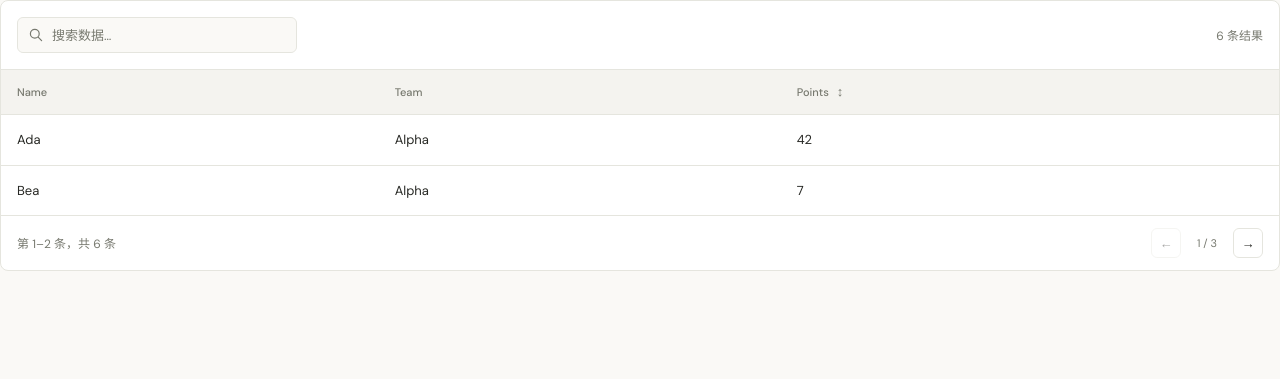
Test: DataTable interactions › offers a working clear action after an empty search and restores the first page
The width and height of the screenshot is (1280, 379).
Click the button named "下一页": (1248, 243) 1233,228 -> 1263,258
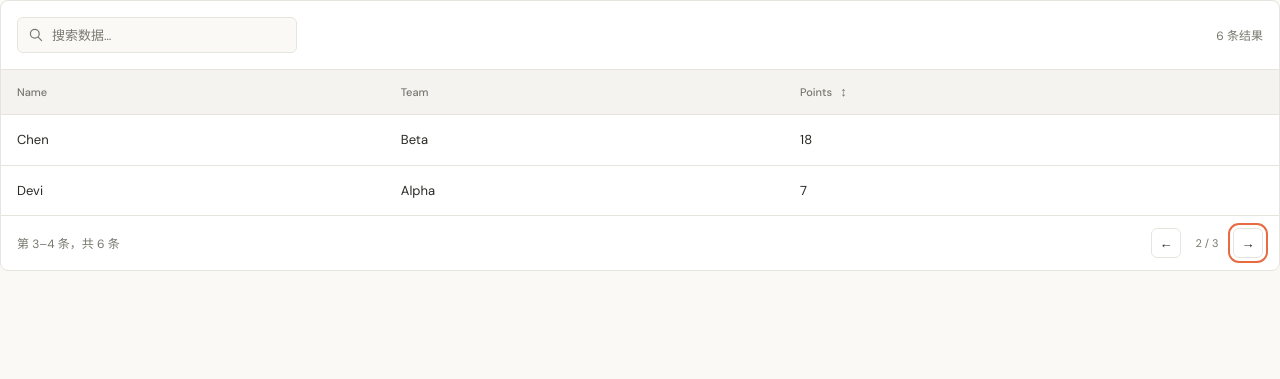
In the search field named "搜索People": (157, 35) 17,17 -> 297,53, type "no-such-person"
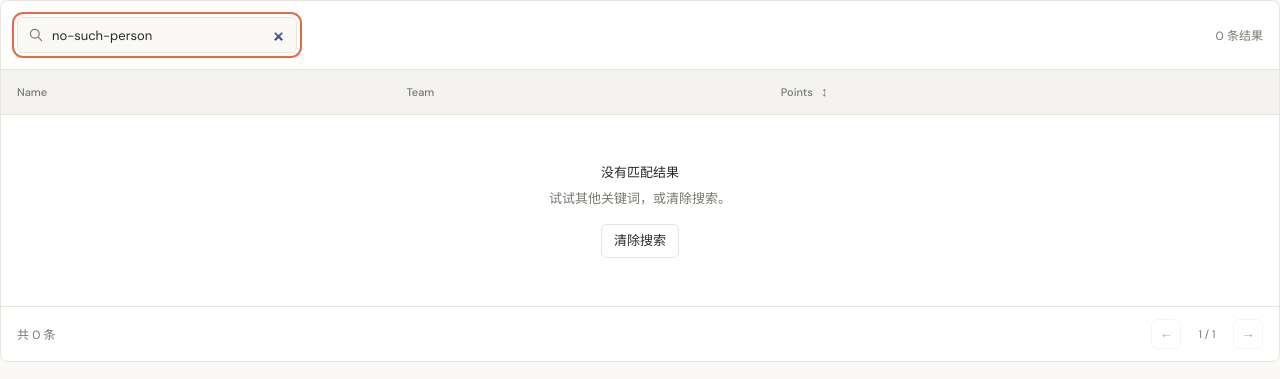
Expected: the button named "下一页" is disabled, 1233,318 -> 1263,348
Expected: the text "没有匹配结果" is shown, 601,164 -> 679,181
Expected: the message reads "0 条结果", 1216,26 -> 1263,44
Click the button "清除搜索": (640, 241) 601,224 -> 679,258
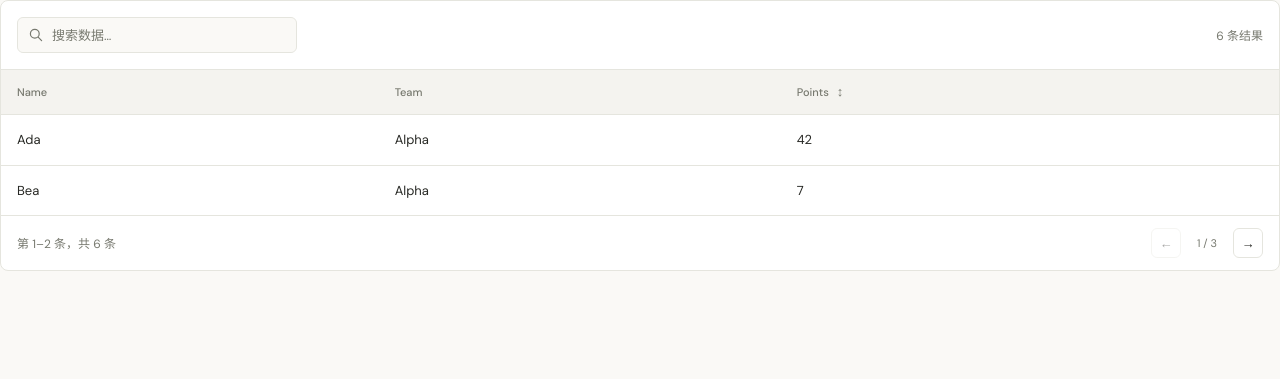
Expected: the search field named "搜索People" is empty, 17,17 -> 297,53
Expected: the message reads "6 条结果", 1216,26 -> 1263,44
Expected: the text "没有匹配结果" is gone
